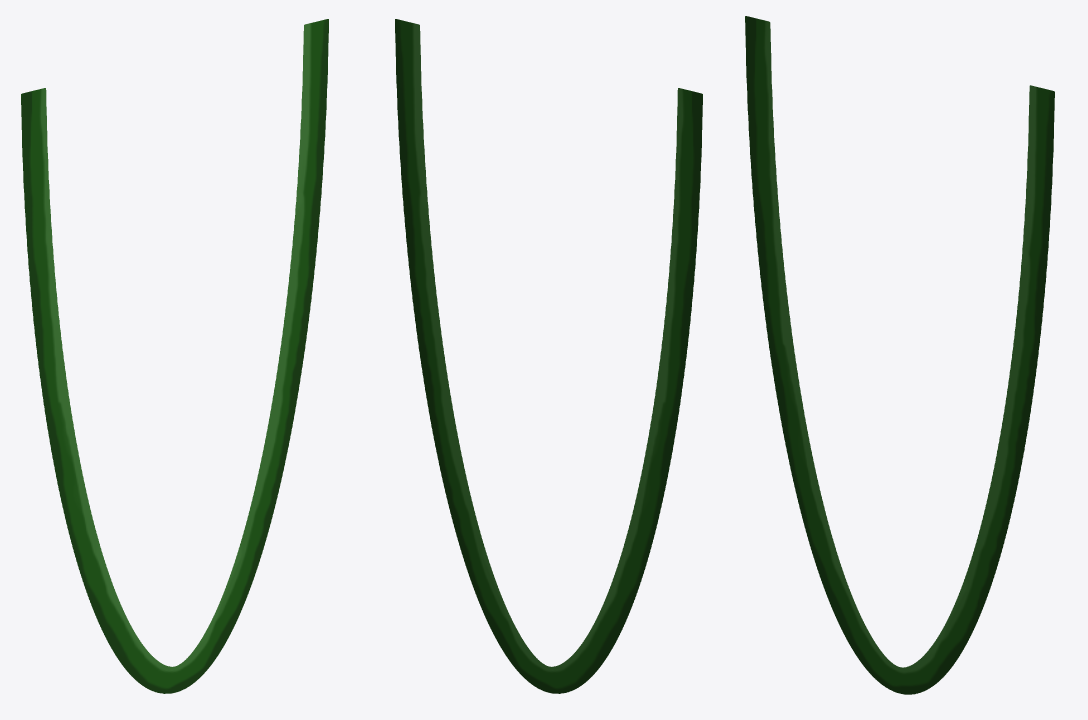
The model's file is Vine_1.fbx.
3 renders of one model, left to right at view 1: azimuth 30°, elevation 25°; view 2: azimuth 150°, elevation 25°; view 3: azimuth 330°, elevation 25°, orthographic.
Parts seen in each view (by area): view 1: polySurface14; view 2: polySurface14; view 3: polySurface14.
Boxes of the visible parts, <box> form: polySurface14: <box>21,19,328,693</box>; polySurface14: <box>395,19,702,693</box>; polySurface14: <box>745,16,1054,694</box>.
Bounding box in the file's own units: 259 × 481 × 0.
